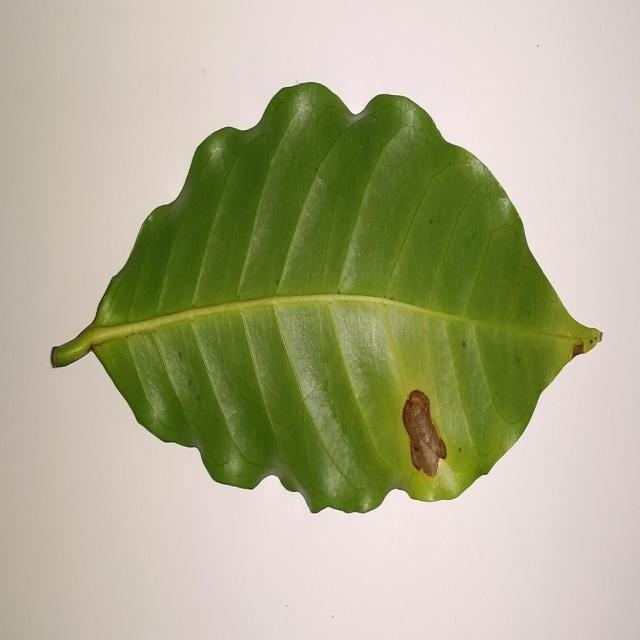phoma: (402, 391, 447, 478)
